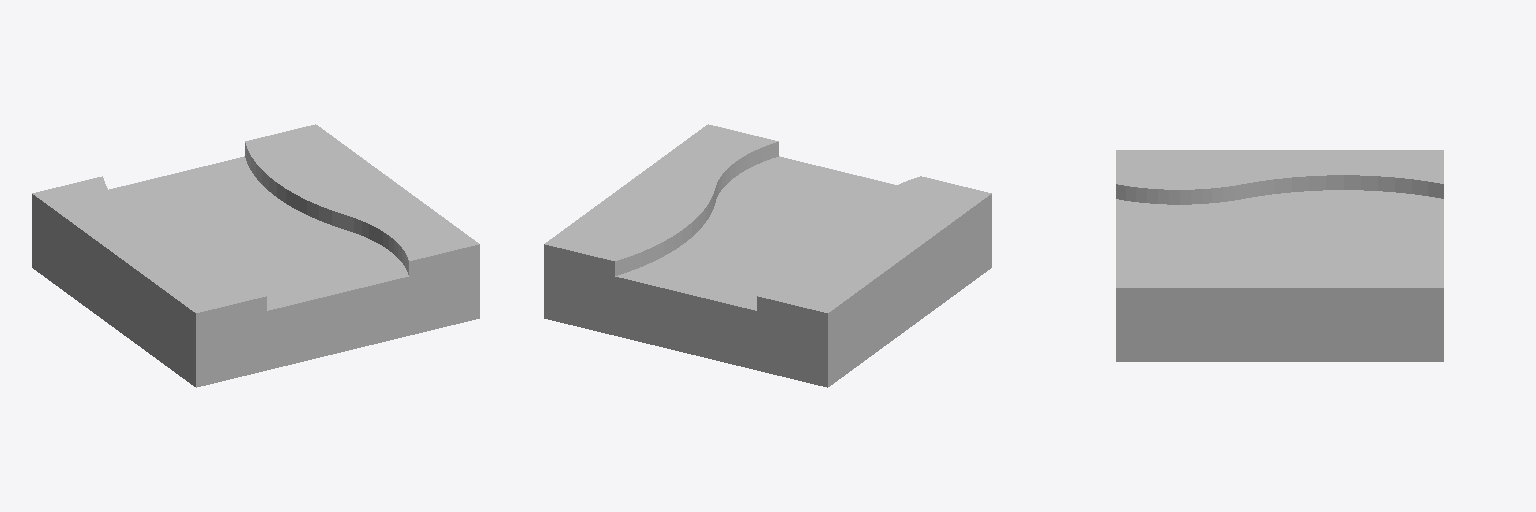
File: ground_dirtRiver.obj
The picture shows the model from 3 angles: view 1: azimuth 30°, elevation 25°; view 2: azimuth 150°, elevation 25°; view 3: azimuth 270°, elevation 25°; orthographic projection.
Parts seen in each view (by area): view 1: ground_dirtRiver; view 2: ground_dirtRiver; view 3: ground_dirtRiver.
Part boxes in pixels (x1,y1,x2,y2): ground_dirtRiver: (32, 124, 479, 387); ground_dirtRiver: (544, 124, 991, 387); ground_dirtRiver: (1116, 150, 1443, 361).
Size of the model in its own units: 10 by 2.5 by 10.